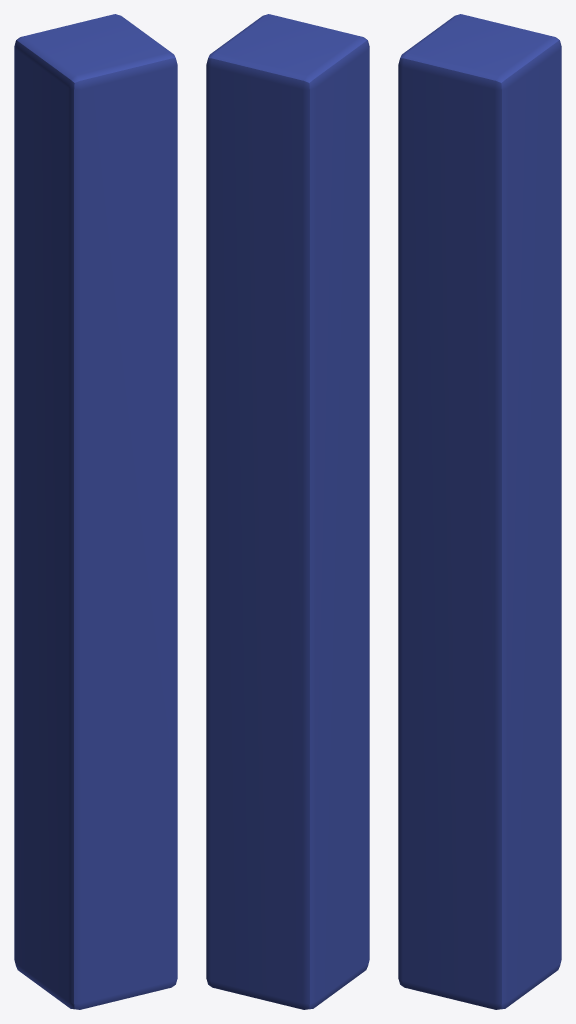
File: qwe.fbx
3 views of the same model, side by side, from view 1: azimuth 30°, elevation 25°; view 2: azimuth 150°, elevation 25°; view 3: azimuth 330°, elevation 25° (orthographic).
Parts seen in each view (by area): view 1: polySurface785; view 2: polySurface785; view 3: polySurface785.
Part boxes in pixels (left/top/right/bottom): polySurface785: left=14, top=14, right=177, bottom=1009; polySurface785: left=206, top=14, right=369, bottom=1009; polySurface785: left=398, top=14, right=561, bottom=1009.
Size of the model in its own units: 32.82 by 270 by 32.82.
